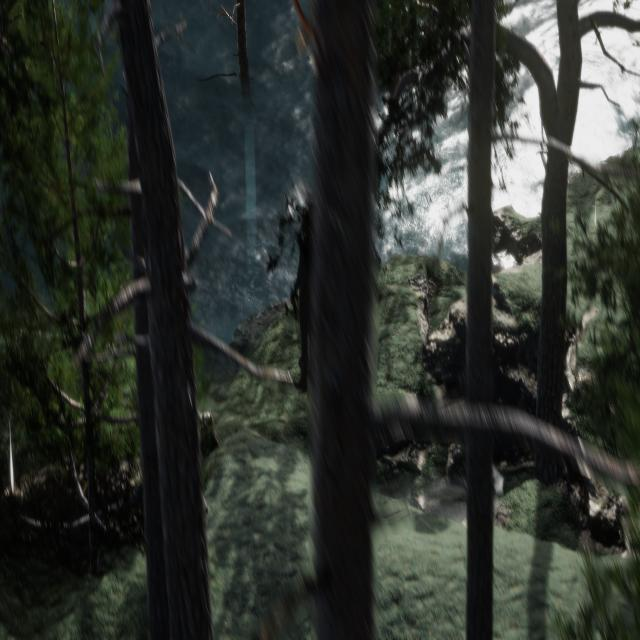Human: (284, 203, 309, 397)
